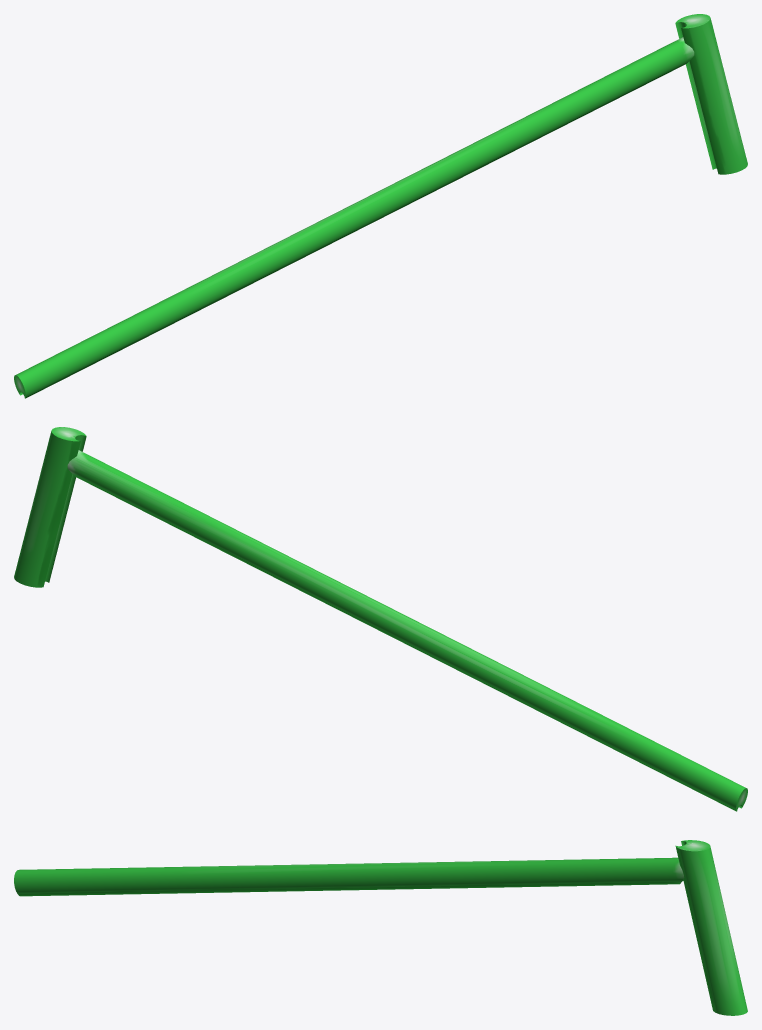
3 views of the same model, one above another, from view 1: azimuth 30°, elevation 25°; view 2: azimuth 150°, elevation 25°; view 3: azimuth 330°, elevation 25° (orthographic).
Visible parts, largest first — view 1: pCylinder3, pasted__pCylinder3; view 2: pCylinder3, pasted__pCylinder3; view 3: pCylinder3, pasted__pCylinder3.
Boxes of the visible parts, bbox=[...] form: pCylinder3: bbox=[14, 37, 694, 398]; pasted__pCylinder3: bbox=[675, 14, 747, 174]; pCylinder3: bbox=[67, 450, 747, 811]; pasted__pCylinder3: bbox=[14, 427, 86, 587]; pCylinder3: bbox=[14, 857, 684, 896]; pasted__pCylinder3: bbox=[675, 840, 747, 1015].
Size of the model in its own units: 23.79 by 6.66 by 0.7538.
2 materials, 2 textured.
